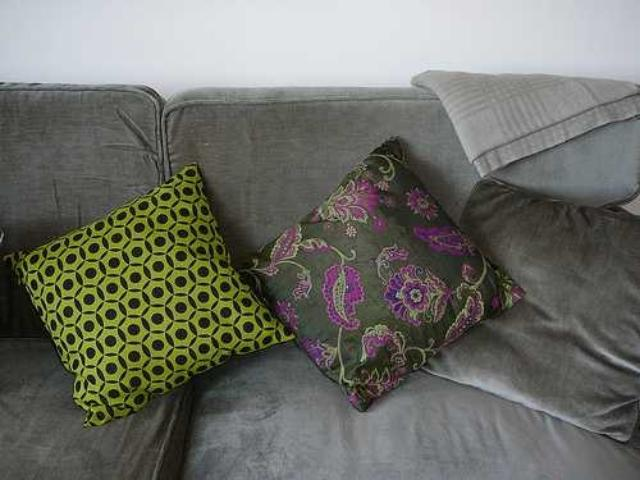pillow: (240, 133, 526, 412), (5, 160, 295, 428), (420, 176, 638, 442)
